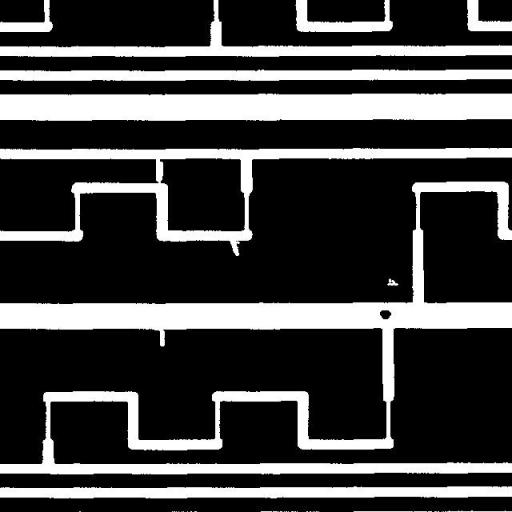copper: (372, 302, 398, 326)
mousebite: (144, 318, 172, 354), (221, 230, 247, 263)
open: (148, 150, 170, 192)
pin-hole: (379, 270, 406, 293)
